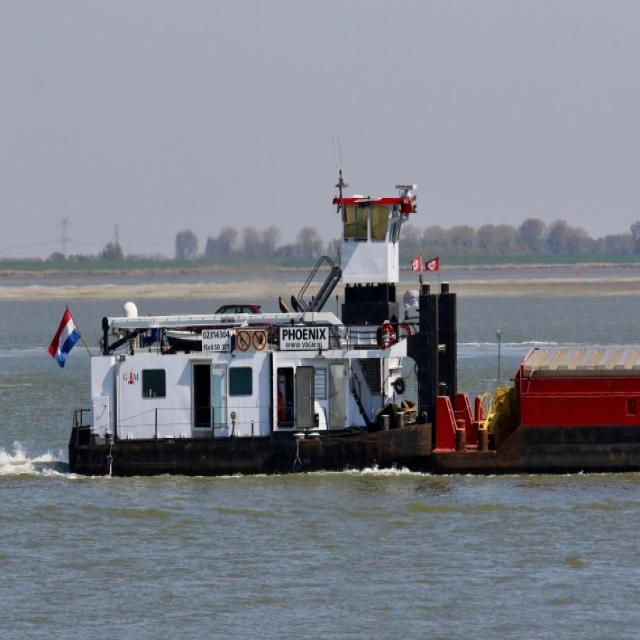tugboat: (47, 164, 466, 481)
